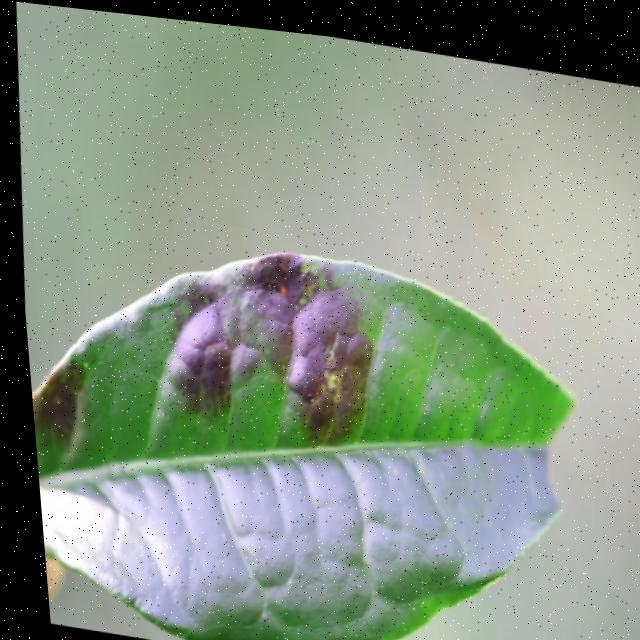Tea exobasidium blight: (149, 236, 371, 446)
